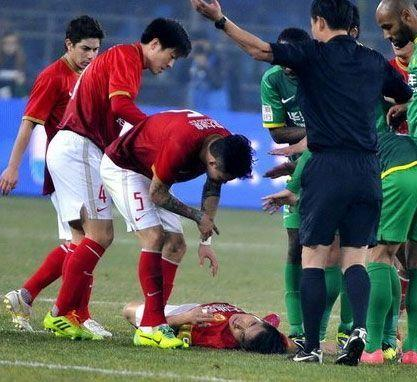fall: (120, 291, 301, 358)
